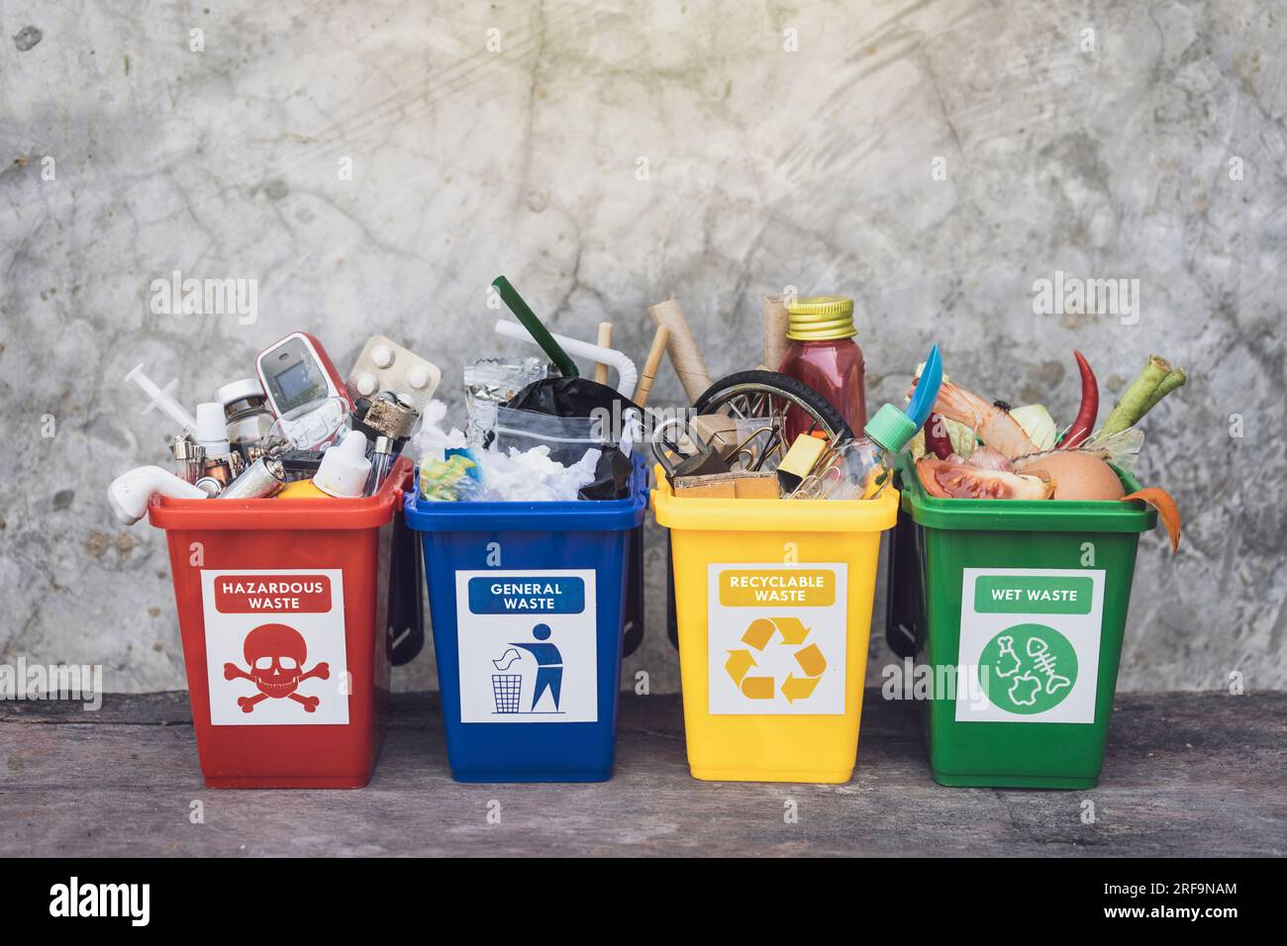partial: (255, 332, 350, 455)
